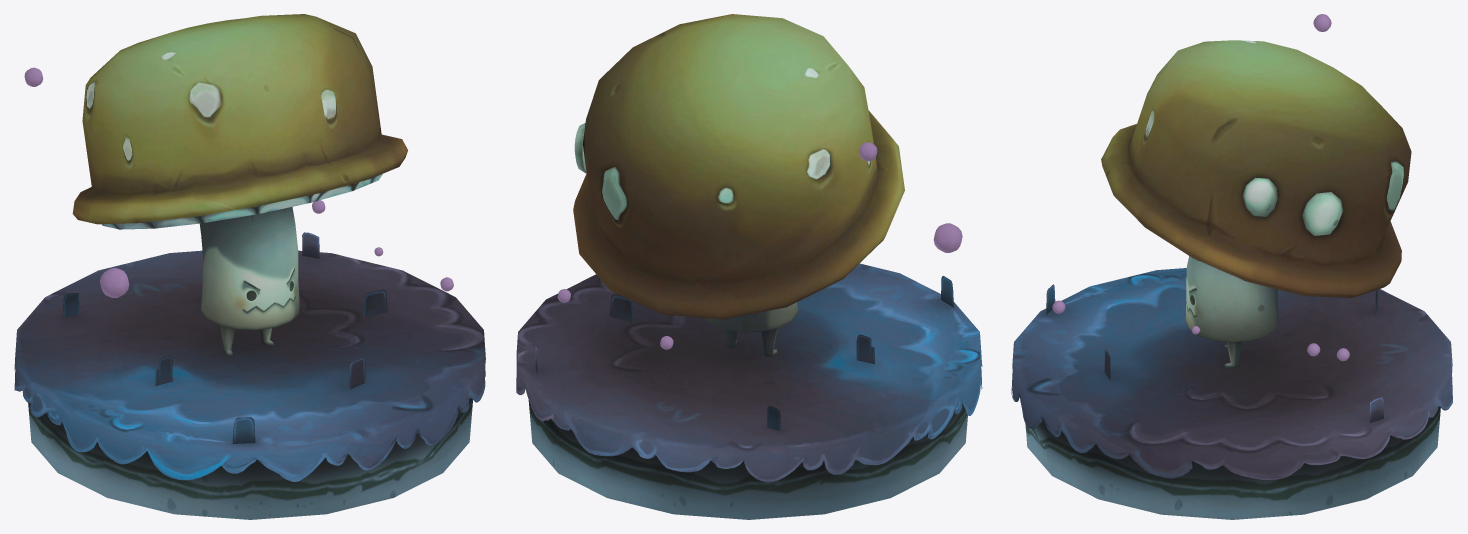
Rendered from mushroom82.gltf.
3 views of the same model, side by side, from view 1: azimuth 30°, elevation 25°; view 2: azimuth 150°, elevation 25°; view 3: azimuth 270°, elevation 25° (orthographic). The views are drawn at different scales.
Parts seen in each view (by area): view 1: Mesh_0, Mesh_1; view 2: Mesh_0, Mesh_1; view 3: Mesh_0, Mesh_1.
Boxes of the visible parts, x1,y1,x2,y2 form: Mesh_0: [14, 67, 485, 519]; Mesh_1: [72, 14, 407, 356]; Mesh_0: [516, 142, 982, 519]; Mesh_1: [573, 14, 904, 356]; Mesh_0: [1011, 14, 1452, 519]; Mesh_1: [1101, 40, 1411, 367].
Size of the model in its own units: 2.97 by 2.71 by 2.92.
2 materials, 2 textured.
